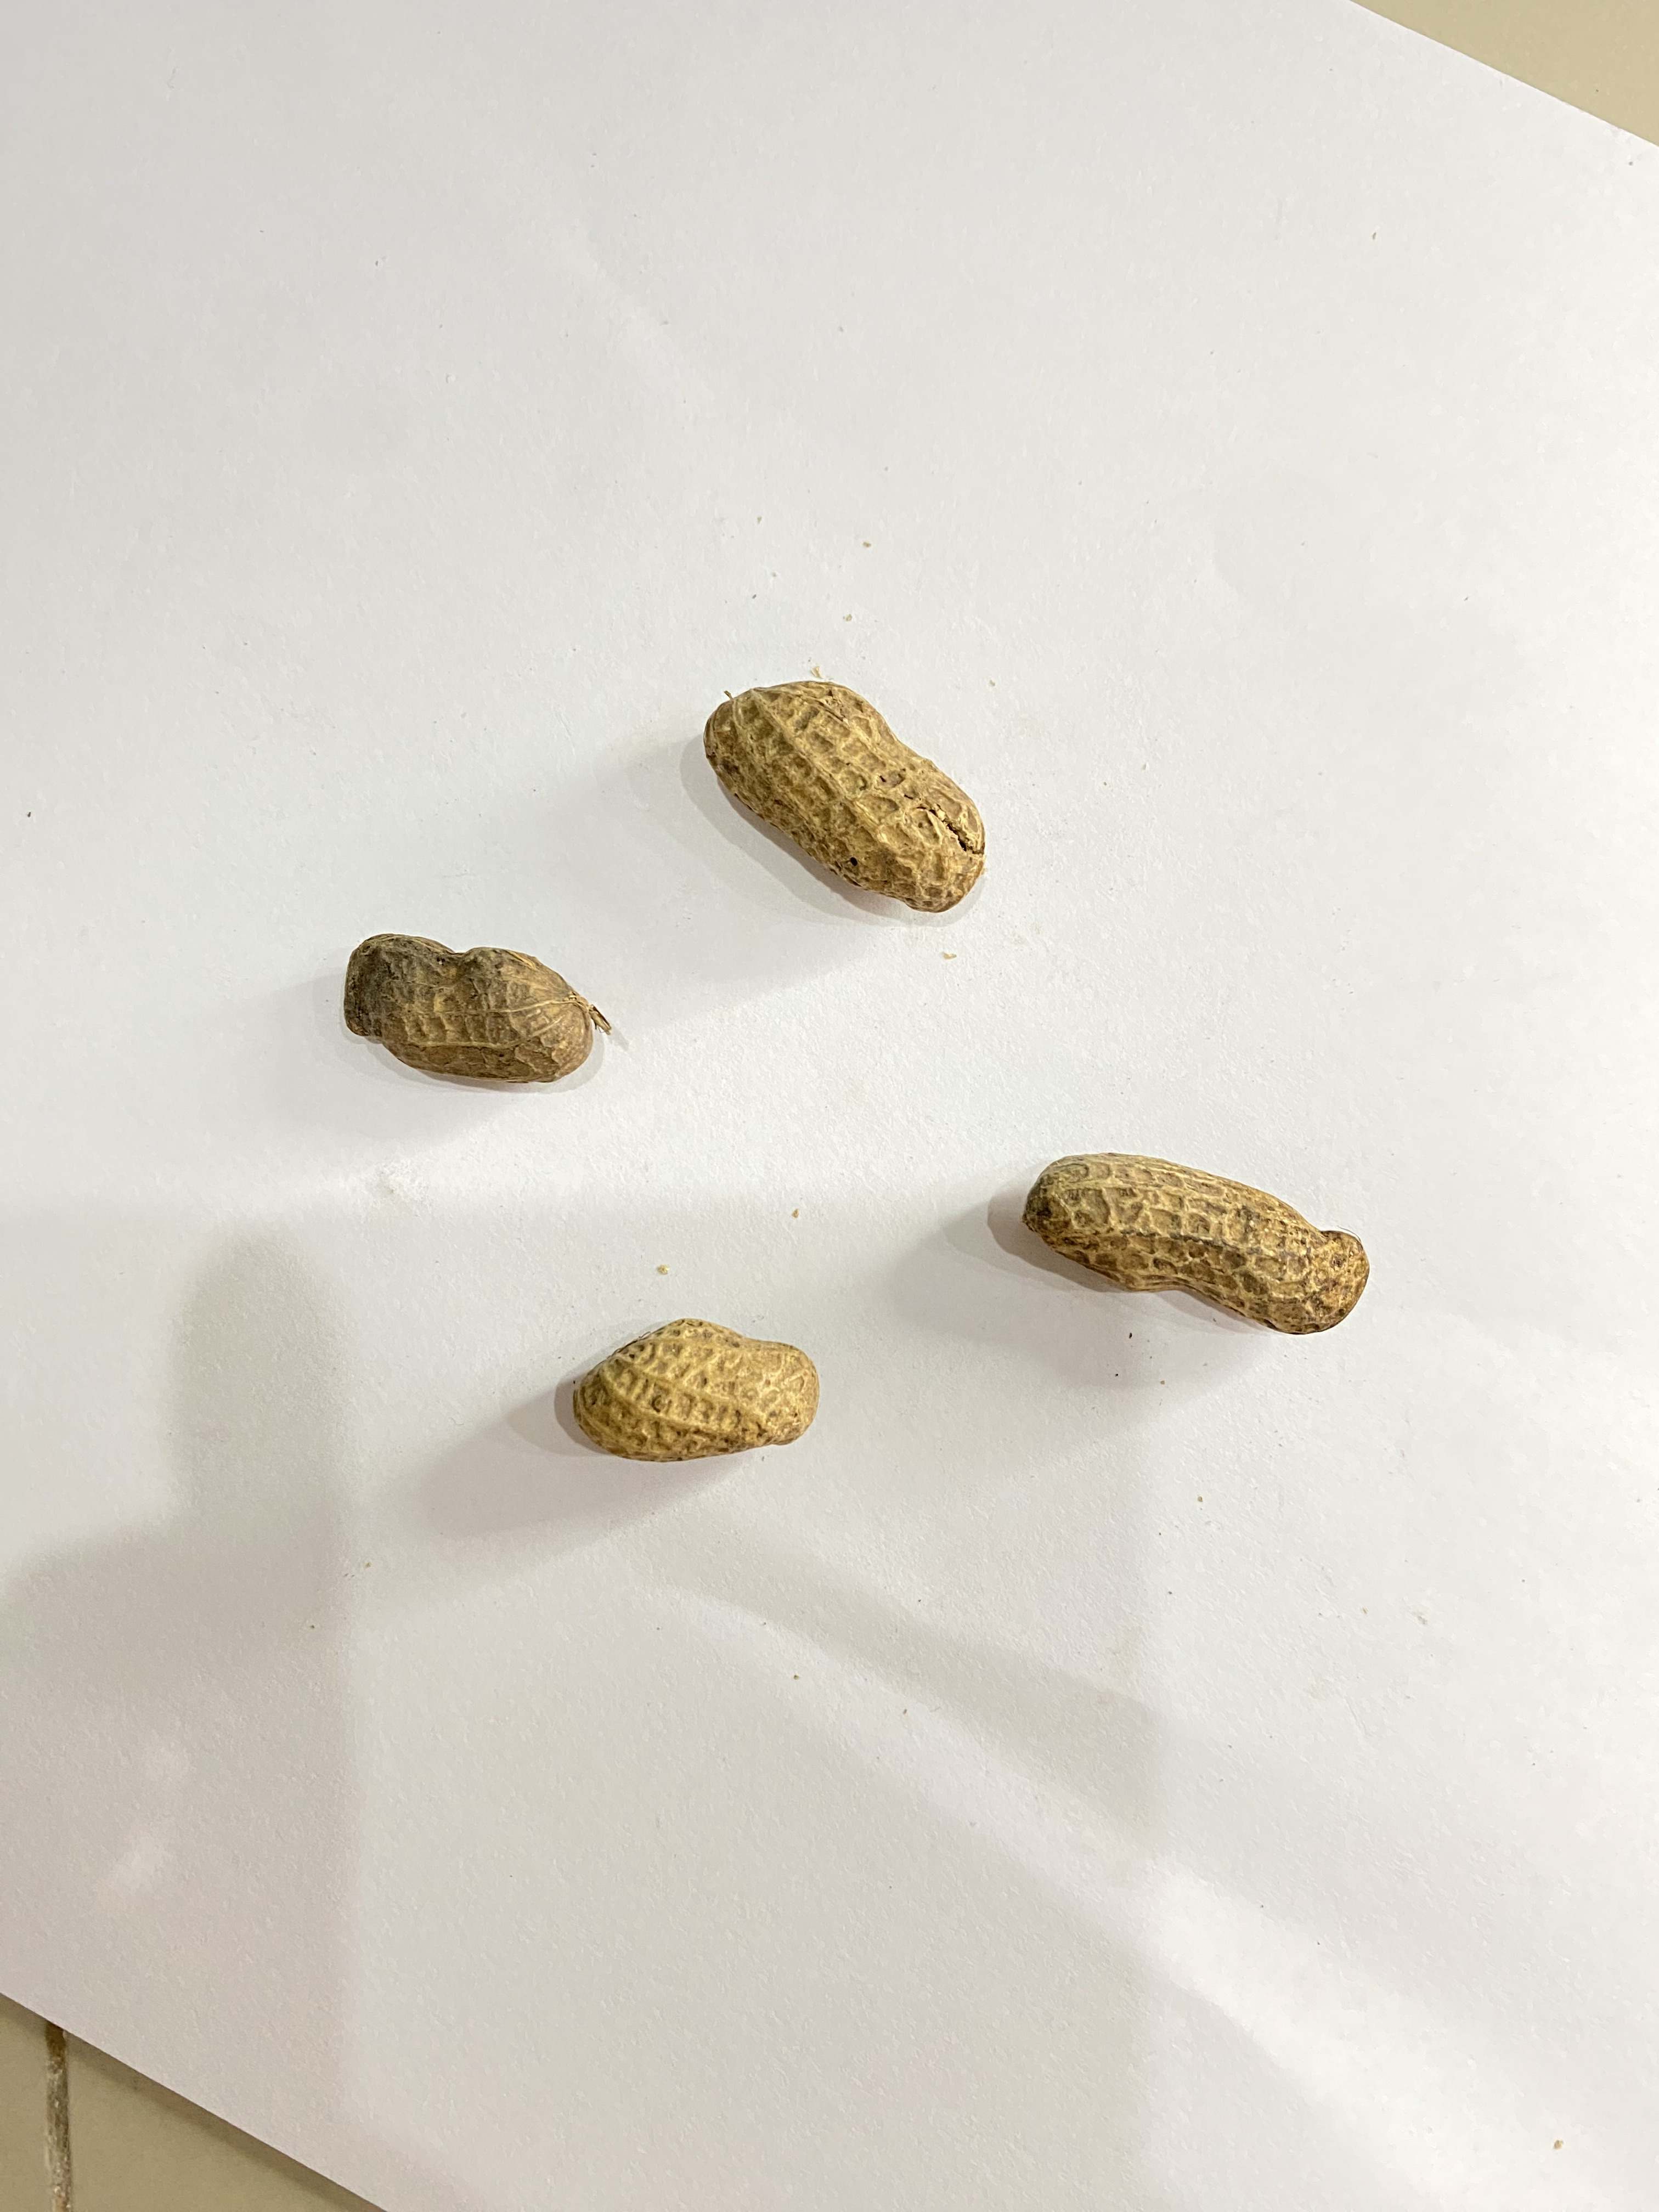kacang1: (333, 900, 612, 1096), (542, 1318, 875, 1477)
kacang2: (941, 1120, 1424, 1350), (694, 629, 992, 921)
